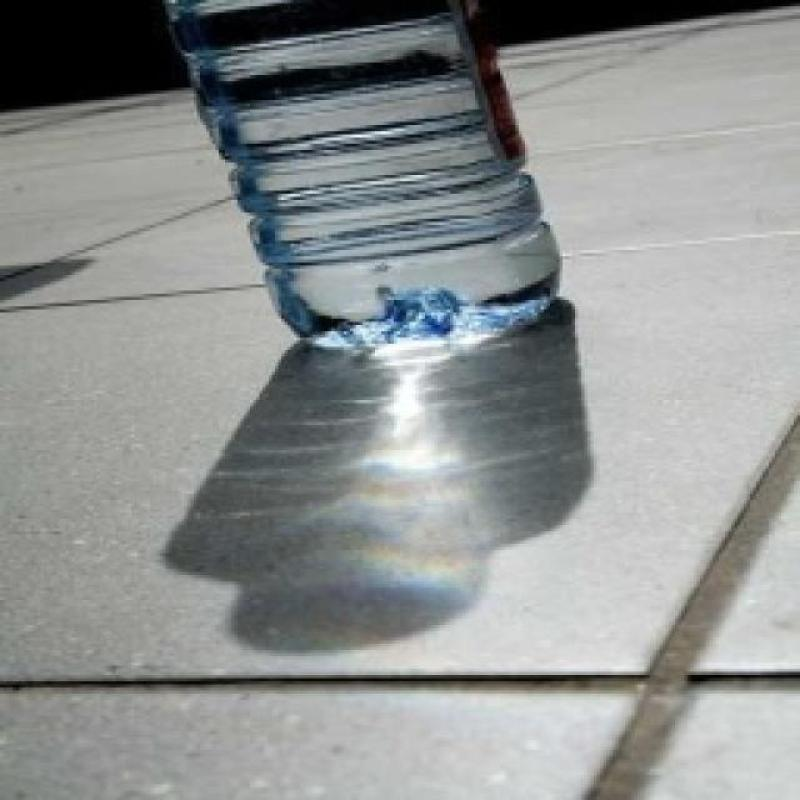botella: (168, 0, 559, 362)
